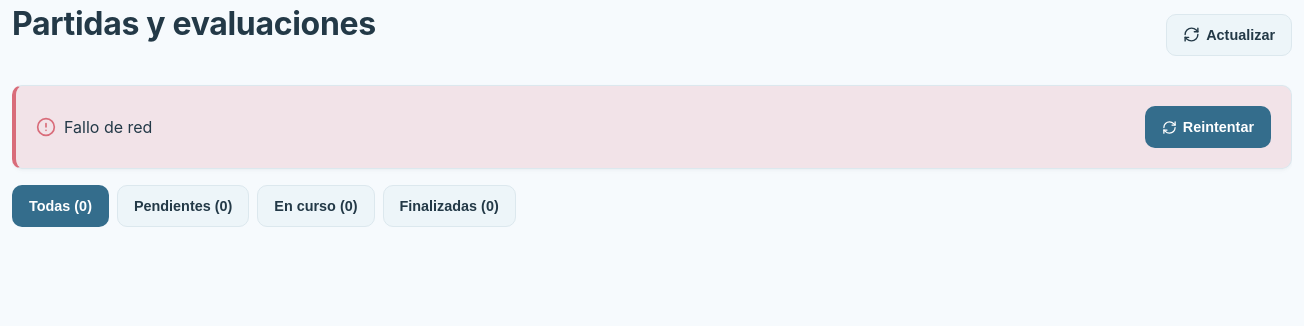
Test: Error States and Recovery (ADR-0009 / F0.6) › MatchesPage error handling › allows retrying match listing after failure
expect the message "Fallo de red Reintentar" is shown: met, box left=12, top=85, right=1292, bottom=169
Click the button "Reintentar" at [1208, 127], box left=1145, top=106, right=1271, bottom=148
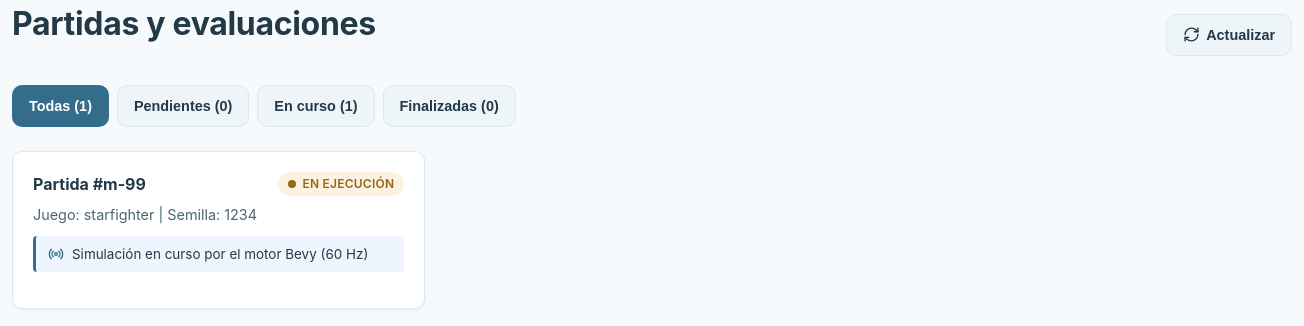
expect the message "Fallo de red Reintentar" is gone: met
expect the text "Partida #m-99" is shown: met, box left=33, top=172, right=146, bottom=196
